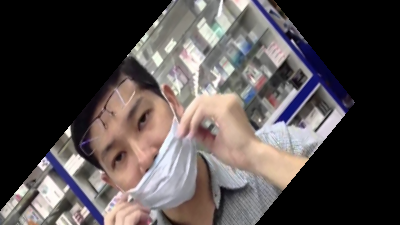mask_weared_incorrect: (51, 51, 207, 215)
